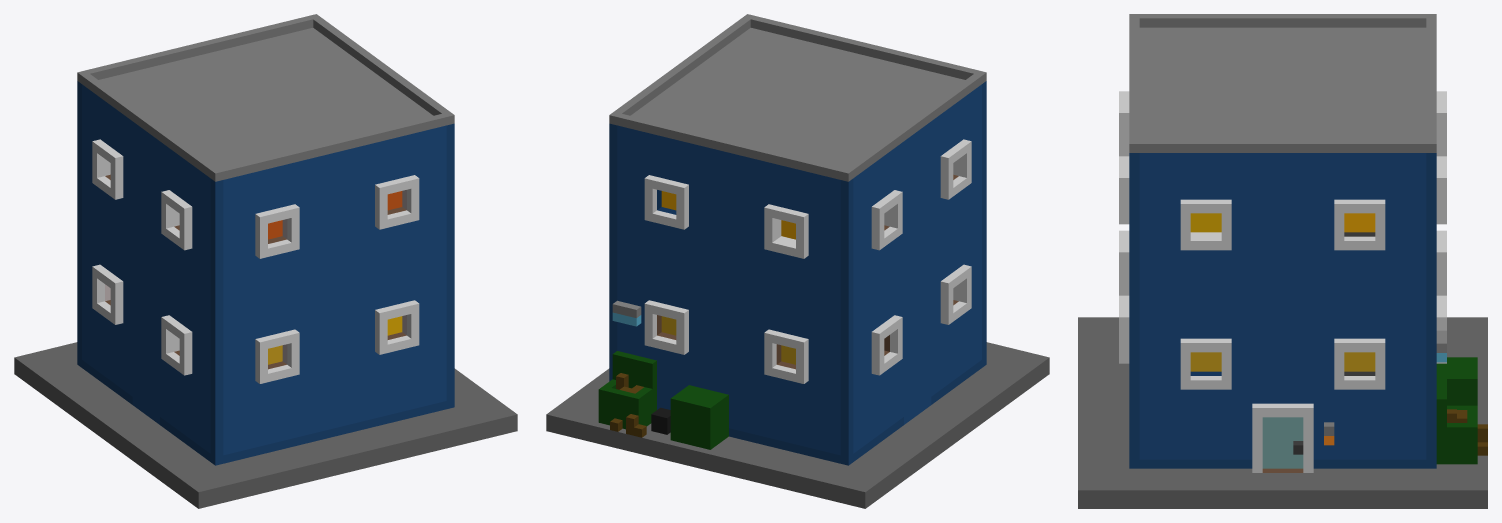
The model's file is town_model-16.obj.
The picture shows the model from 3 angles, left to right: view 1: azimuth 30°, elevation 25°; view 2: azimuth 150°, elevation 25°; view 3: azimuth 270°, elevation 25°; orthographic projection. The views are drawn at different scales.
Visible parts, largest first — view 1: town_model-16; view 2: town_model-16; view 3: town_model-16.
Boxes of the visible parts, x1,y1,x2,y2 form: town_model-16: [14, 14, 517, 508]; town_model-16: [546, 14, 1049, 508]; town_model-16: [1078, 14, 1487, 508].
Size of the model in its own units: 40 by 37 by 40.
Materials: 1 (1 with a texture image).
